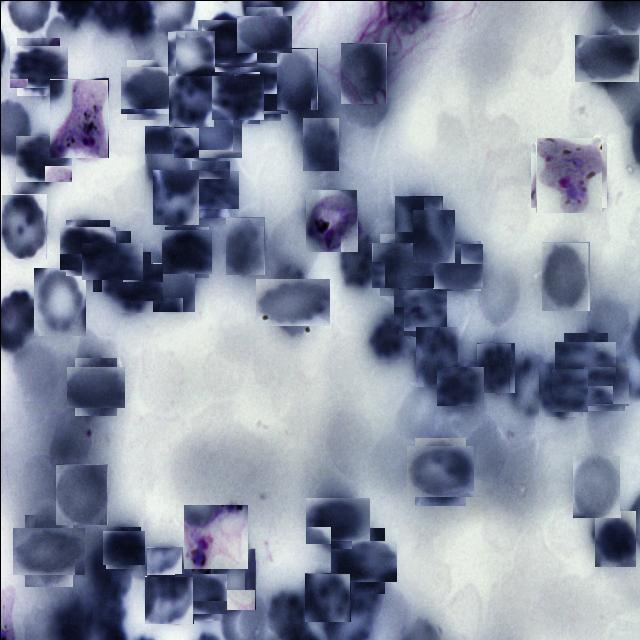red blood cell: (262, 271, 322, 332), (18, 520, 78, 580), (410, 442, 470, 501), (33, 267, 85, 335), (144, 125, 192, 196), (540, 241, 588, 310), (178, 106, 236, 163), (55, 463, 107, 524), (578, 30, 634, 86), (308, 492, 364, 548), (1, 193, 46, 258), (122, 62, 176, 116), (336, 533, 390, 587), (375, 238, 429, 292), (572, 455, 619, 517), (558, 336, 612, 389), (200, 15, 252, 70), (340, 42, 386, 103), (210, 547, 255, 609), (16, 132, 68, 184), (168, 68, 214, 126), (12, 41, 63, 91), (276, 47, 317, 109), (152, 169, 198, 224), (415, 326, 457, 386), (70, 361, 120, 411), (62, 222, 112, 272), (106, 256, 156, 306), (86, 236, 136, 285), (509, 356, 551, 414), (212, 72, 261, 121), (536, 364, 584, 414), (592, 510, 634, 566), (394, 195, 442, 244), (144, 575, 193, 623), (339, 235, 382, 289), (236, 69, 284, 117), (433, 241, 481, 289), (162, 228, 210, 276), (578, 360, 626, 408), (166, 29, 214, 76), (304, 572, 350, 621), (412, 209, 454, 262), (225, 217, 264, 274), (186, 165, 233, 212), (176, 570, 224, 616), (396, 286, 442, 333), (240, 11, 287, 57), (152, 262, 195, 312), (368, 314, 412, 362), (146, 546, 182, 602), (438, 363, 482, 408), (302, 117, 338, 170), (476, 342, 514, 392), (104, 528, 142, 566)
trophozoite: (532, 139, 604, 210), (49, 78, 108, 158), (183, 504, 247, 568), (305, 188, 357, 251)
